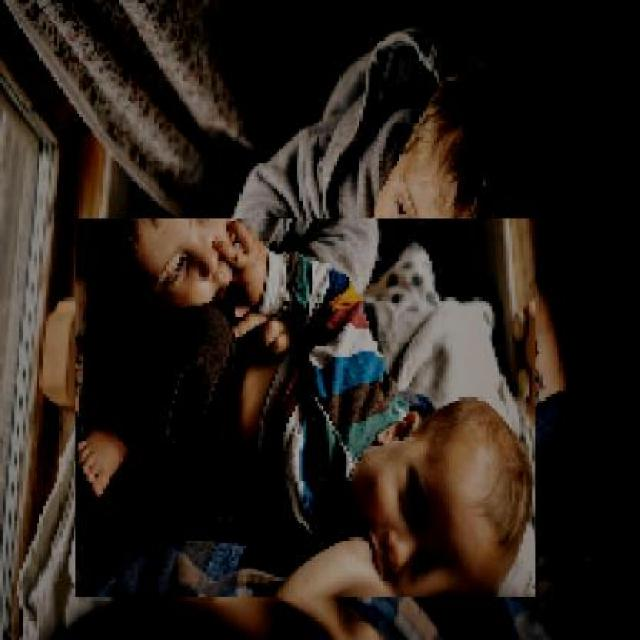child: (74, 218, 535, 598), (227, 26, 570, 343)
